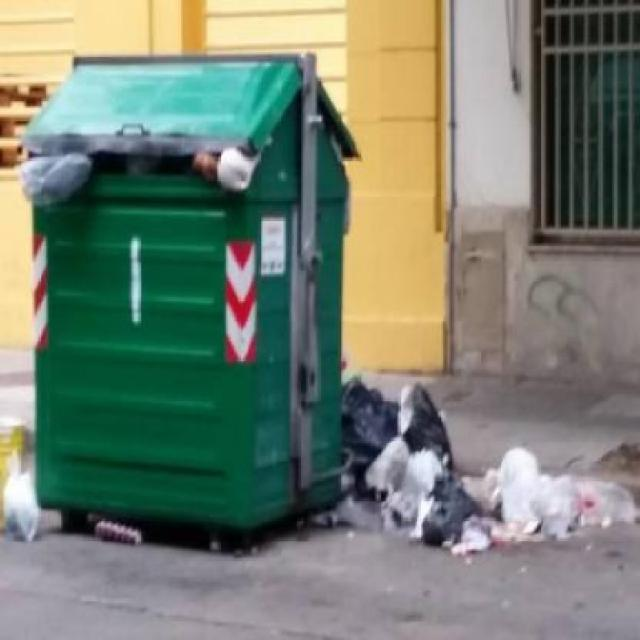garbage: (336, 377, 466, 550), (415, 482, 604, 533), (0, 452, 42, 531)
